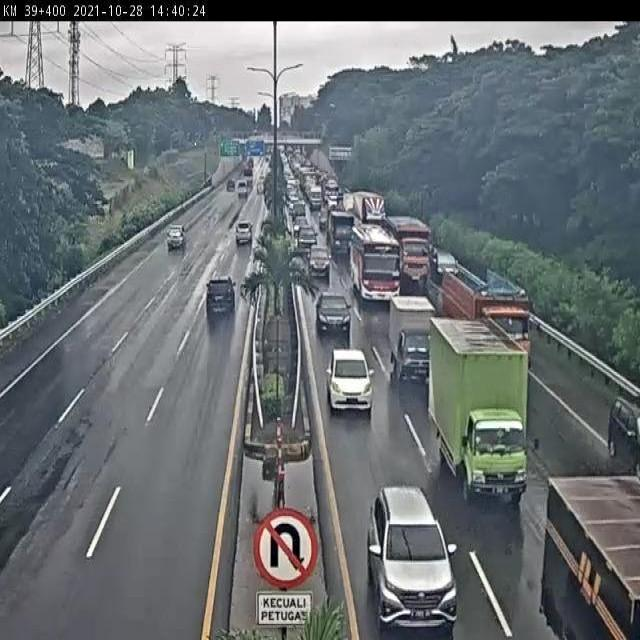bus-l-: (351, 222, 401, 302)
car: (367, 484, 458, 631), (328, 348, 375, 411), (315, 291, 350, 336), (204, 273, 236, 315), (430, 242, 462, 278), (306, 244, 331, 275), (163, 227, 188, 254), (232, 215, 255, 242)
truck-l-: (445, 267, 531, 364), (388, 213, 430, 279)
truck-m-: (428, 314, 532, 506), (330, 209, 359, 256)
truck-s-: (389, 296, 438, 383)
